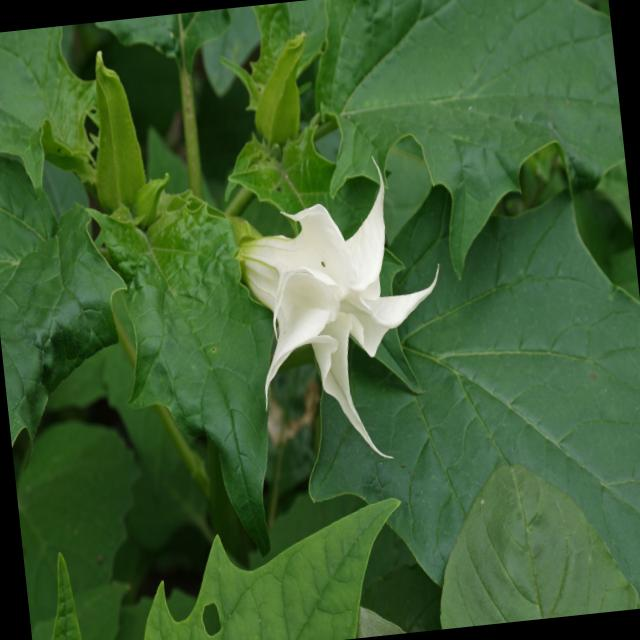Poisonous-Datura_Stramonium: (0, 8, 290, 640), (243, 0, 625, 200), (241, 178, 445, 458)
